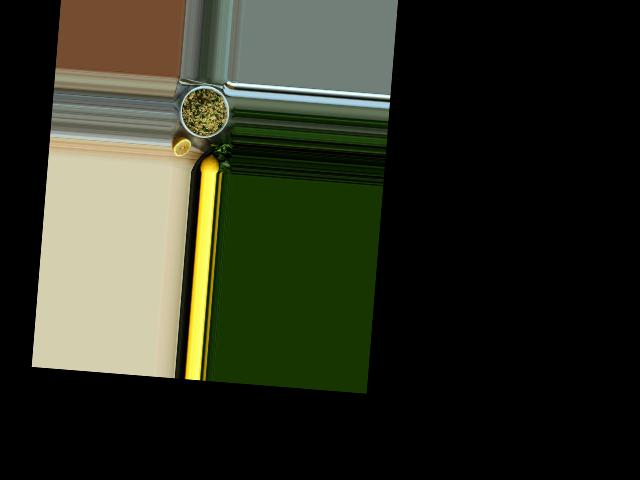lemon: (201, 154, 219, 173)
